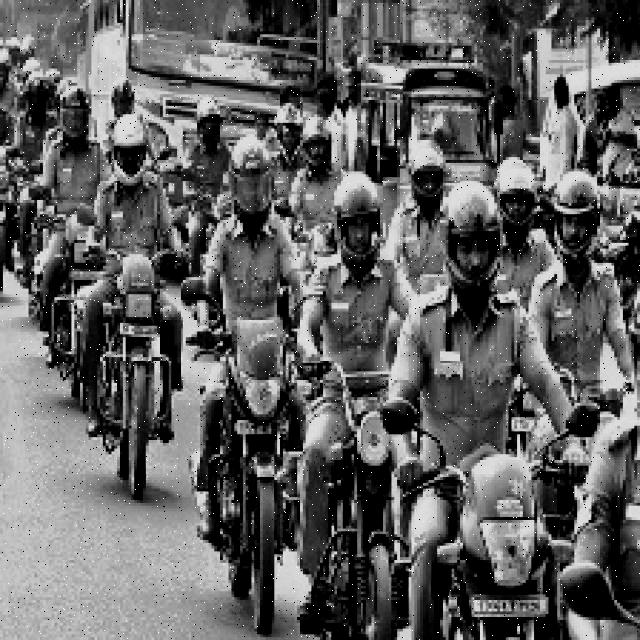Bike: (194, 295, 305, 639), (432, 400, 564, 640), (318, 330, 412, 640), (90, 241, 168, 493)
